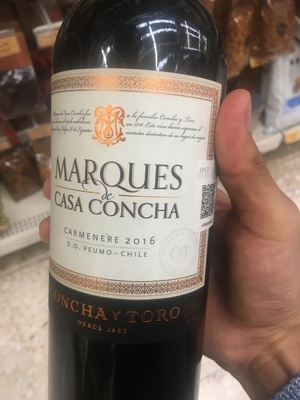marques de casa concha carmenere: (38, 14, 233, 399)
